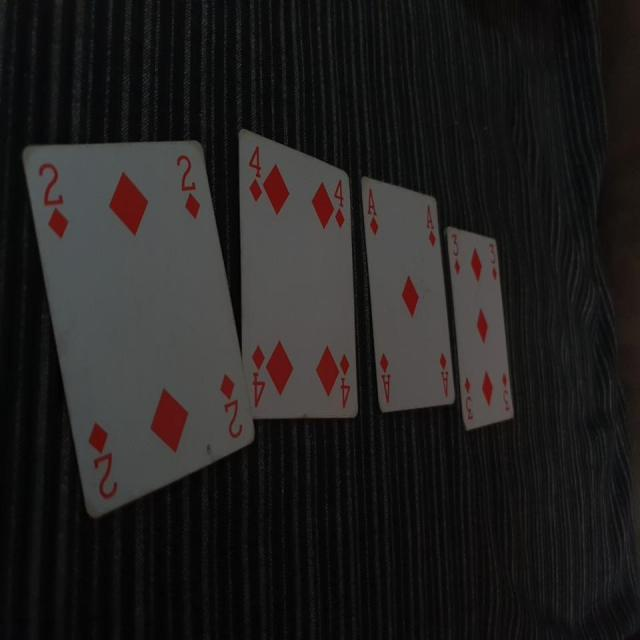2 Diamonds: (18, 132, 258, 518)
3 Diamonds: (444, 219, 516, 430)
4 Diamonds: (235, 124, 362, 422)
A Diamonds: (358, 171, 459, 417)
